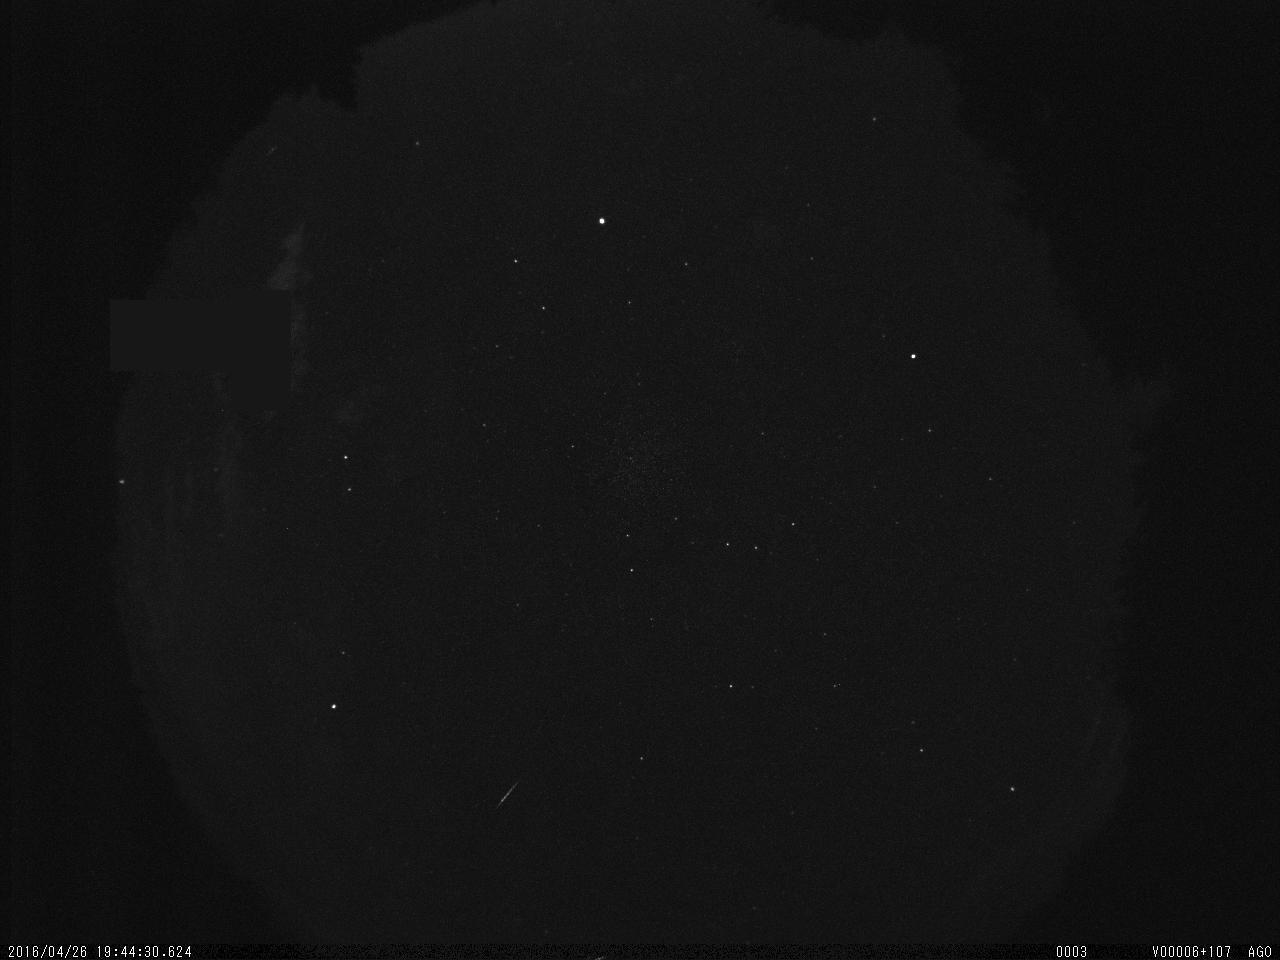meteor: (482, 771, 523, 822)
